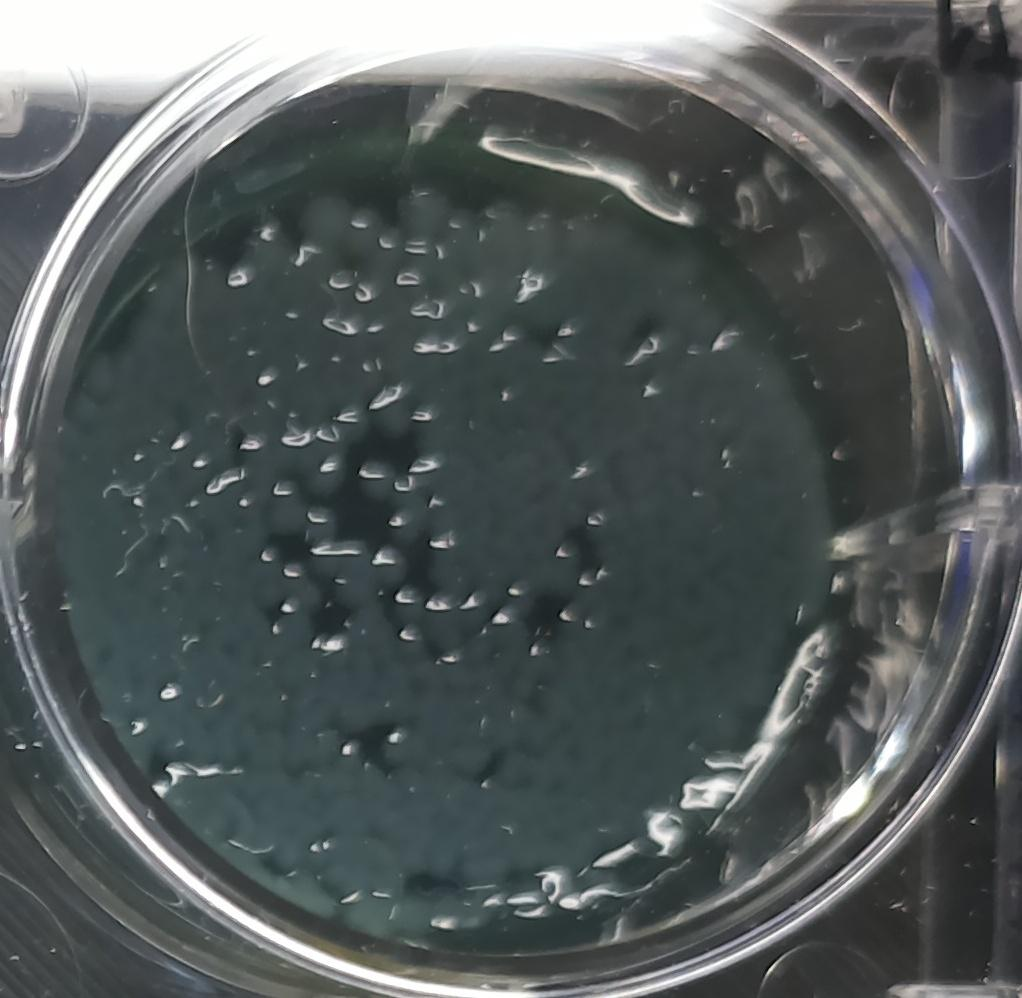vangil: (342, 440, 439, 544)
